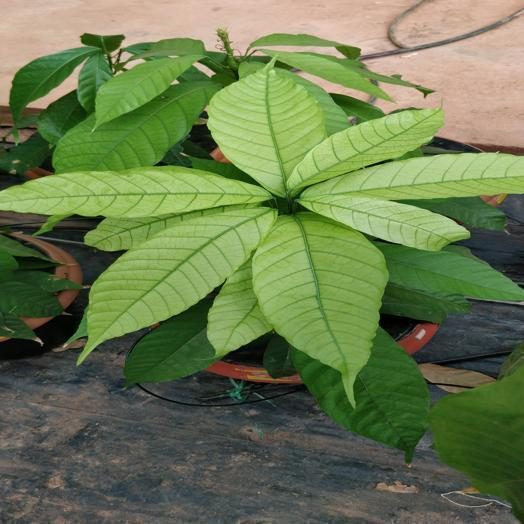Healthy Leaf: (293, 328, 429, 460), (53, 84, 213, 172), (0, 231, 82, 344), (375, 242, 523, 300), (94, 55, 202, 128), (124, 299, 217, 383), (9, 47, 97, 121), (262, 49, 391, 99), (408, 197, 505, 229), (248, 33, 360, 57), (77, 53, 112, 112), (145, 38, 204, 55)
Iron: (79, 207, 275, 361), (253, 213, 387, 401), (208, 63, 326, 202), (0, 167, 270, 217), (288, 109, 442, 193), (301, 153, 523, 200), (299, 193, 468, 250), (85, 206, 251, 250), (208, 259, 271, 356)
